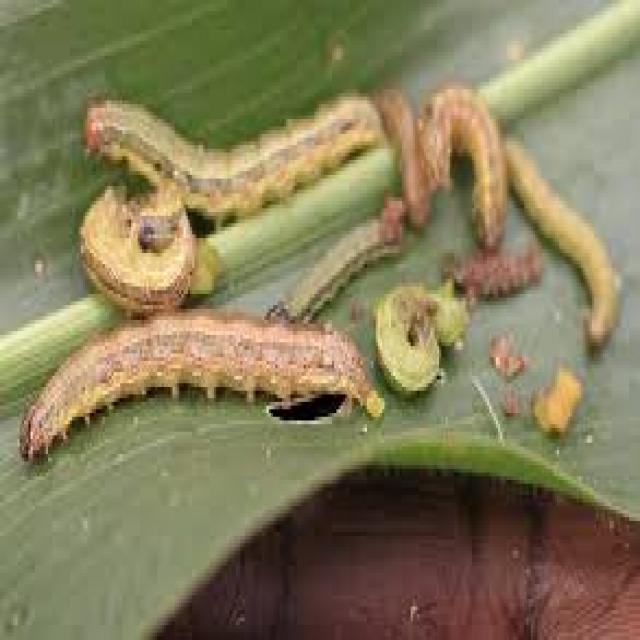armyworm: (24, 316, 363, 463), (79, 95, 384, 214), (507, 128, 627, 350), (391, 89, 514, 252), (77, 185, 204, 312), (274, 207, 404, 318), (379, 285, 474, 393)
